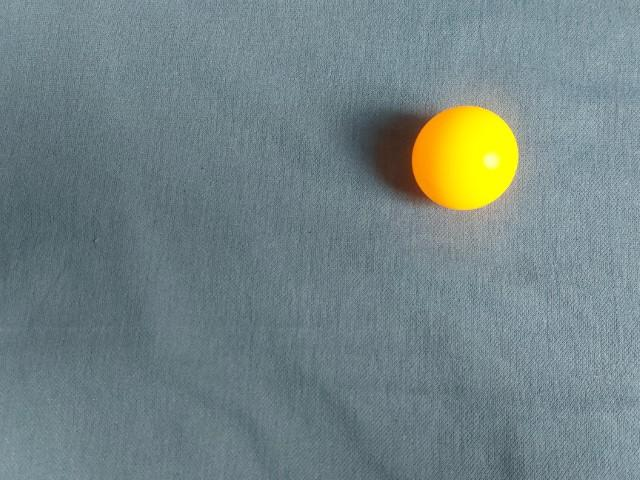oball: (117, 267, 233, 382)
